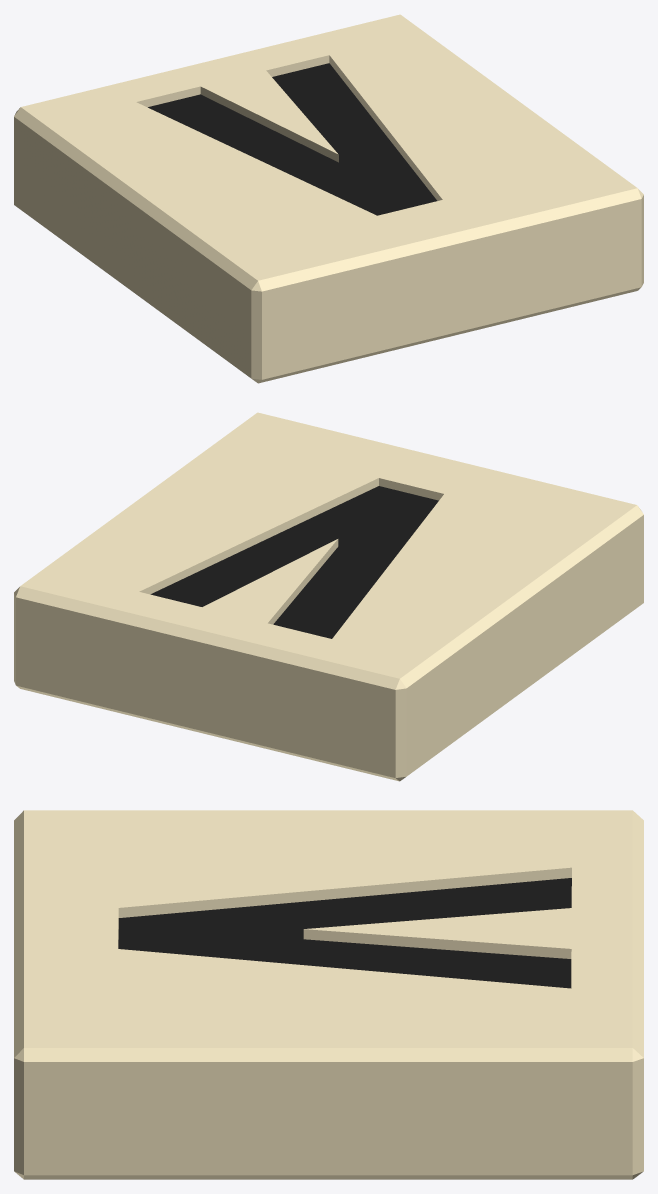
The model's file is Game_Anagram_Tile_V_01.fbx.
3 views of the same model, one above another, from view 1: azimuth 30°, elevation 25°; view 2: azimuth 150°, elevation 25°; view 3: azimuth 270°, elevation 25° (orthographic). The views are drawn at different scales.
Parts seen in each view (by area): view 1: Game_Anagram_Tile_V_01; view 2: Game_Anagram_Tile_V_01; view 3: Game_Anagram_Tile_V_01.
Boxes of the visible parts, <box> form: Game_Anagram_Tile_V_01: <box>14,14,643,383</box>; Game_Anagram_Tile_V_01: <box>14,412,643,781</box>; Game_Anagram_Tile_V_01: <box>14,810,643,1179</box>.
Bounding box in the file's own units: 16.4 × 4.1 × 17.77.
